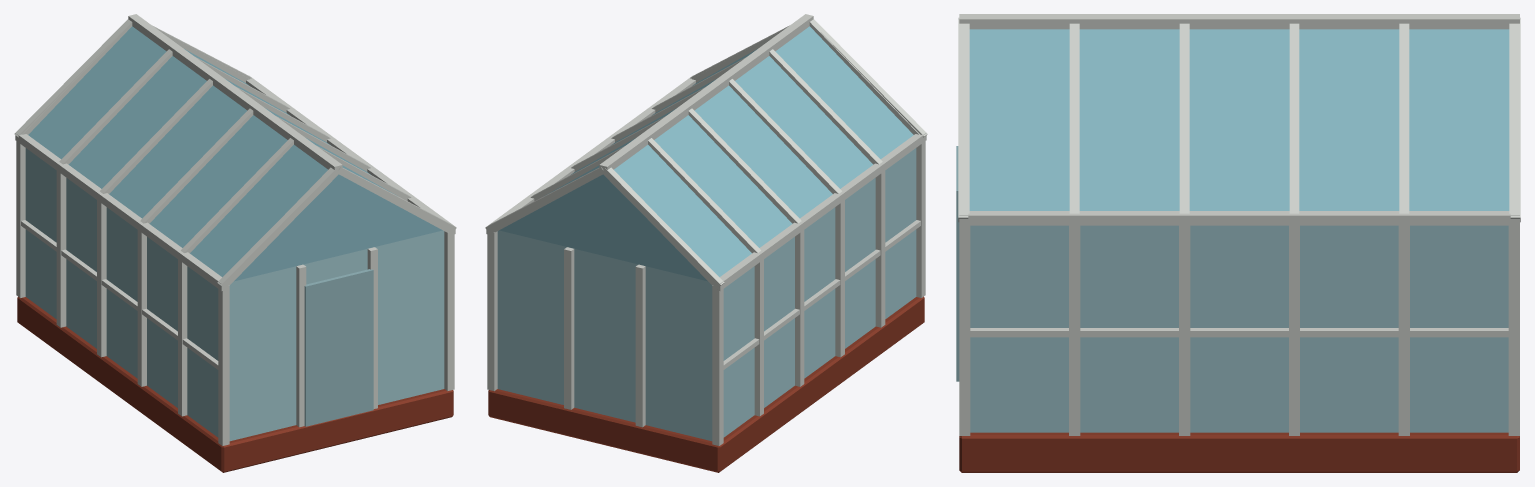
The model's file is greenhouse-deco1.glb.
3 views of the same model, side by side, from view 1: azimuth 30°, elevation 25°; view 2: azimuth 150°, elevation 25°; view 3: azimuth 270°, elevation 25° (orthographic). The views are drawn at different scales.
Visible parts, largest first — view 1: greenhouse-deco1; view 2: greenhouse-deco1; view 3: greenhouse-deco1.
Part boxes in pixels (bbox=[...]): greenhouse-deco1: bbox=[14, 14, 456, 472]; greenhouse-deco1: bbox=[485, 14, 927, 472]; greenhouse-deco1: bbox=[956, 14, 1520, 472].
Size of the model in its own units: 2.64 by 3 by 4.03.
